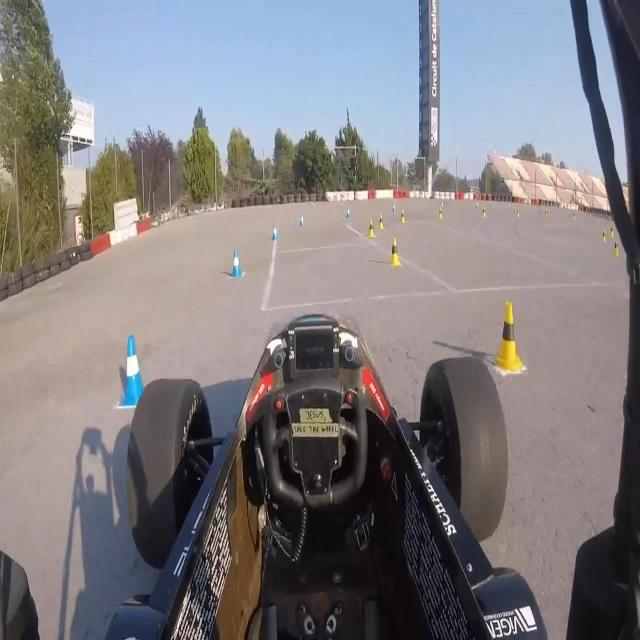blue_cone: (113, 329, 150, 414), (229, 248, 245, 283), (270, 220, 278, 245), (344, 202, 353, 219), (391, 199, 398, 214), (298, 214, 304, 231)
yellow_cone: (487, 294, 522, 375), (390, 237, 402, 270), (368, 218, 376, 242), (378, 209, 386, 230), (613, 238, 620, 260), (399, 206, 406, 226), (438, 204, 443, 220), (601, 229, 606, 245), (483, 203, 487, 221), (609, 224, 613, 240)
